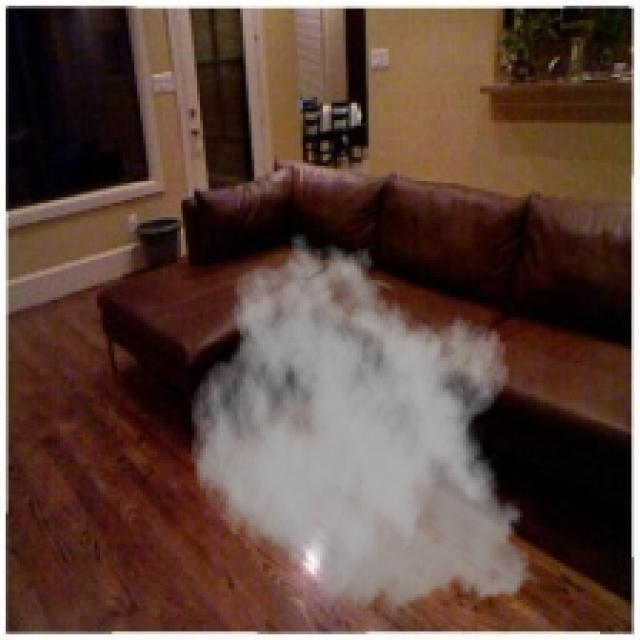Smoke: (188, 231, 546, 623)
